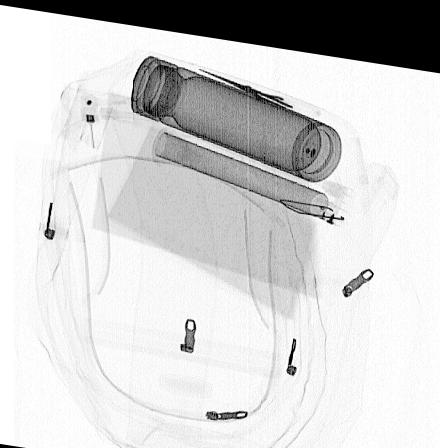Scissors: (194, 56, 296, 102)
